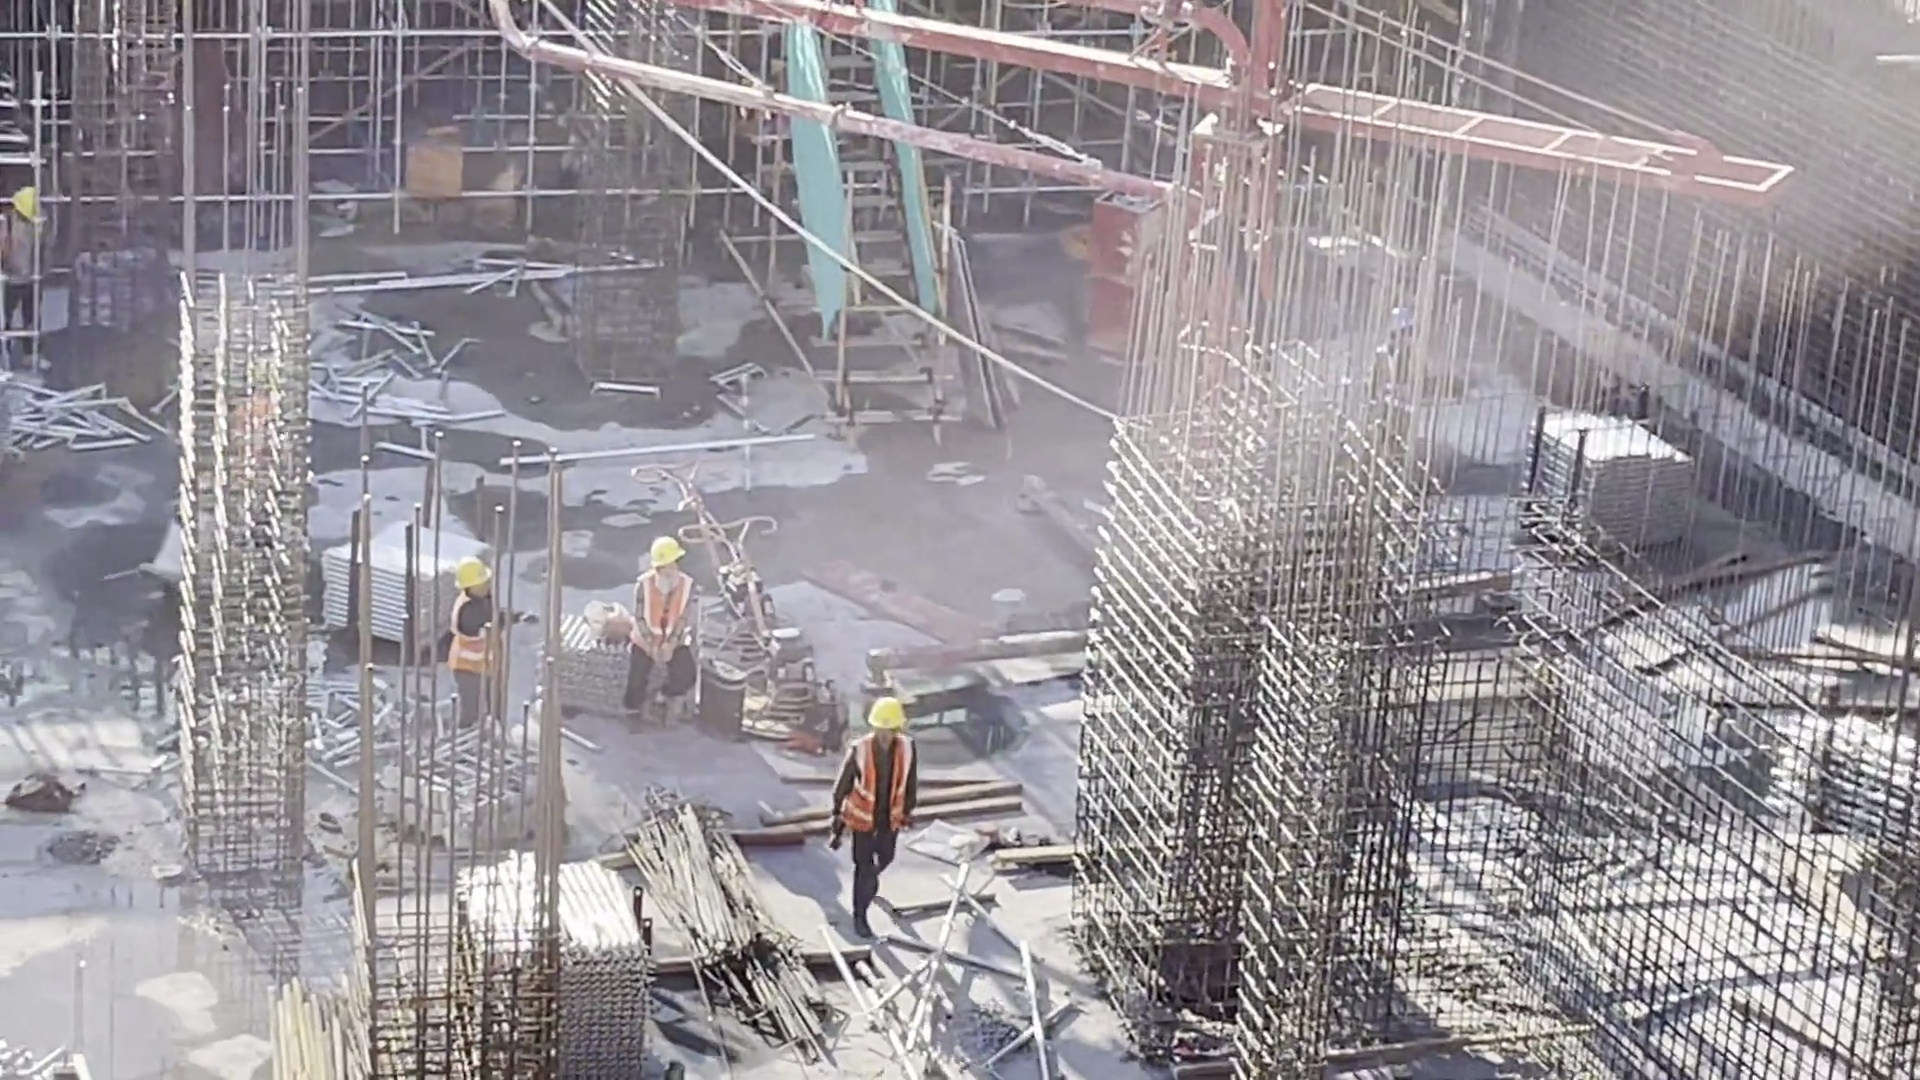helmet: (864, 672, 925, 727), (649, 538, 701, 574), (1, 186, 45, 227), (1386, 293, 1430, 331), (456, 556, 495, 589)
person: (823, 693, 919, 939), (629, 532, 711, 748), (1359, 275, 1453, 462), (448, 563, 528, 711), (8, 185, 67, 380)
scaffold: (458, 856, 662, 1069), (299, 687, 538, 838), (1526, 399, 1704, 580), (320, 505, 487, 652)
vest: (443, 586, 519, 688), (841, 734, 912, 840), (634, 563, 693, 651), (1369, 346, 1435, 424)
